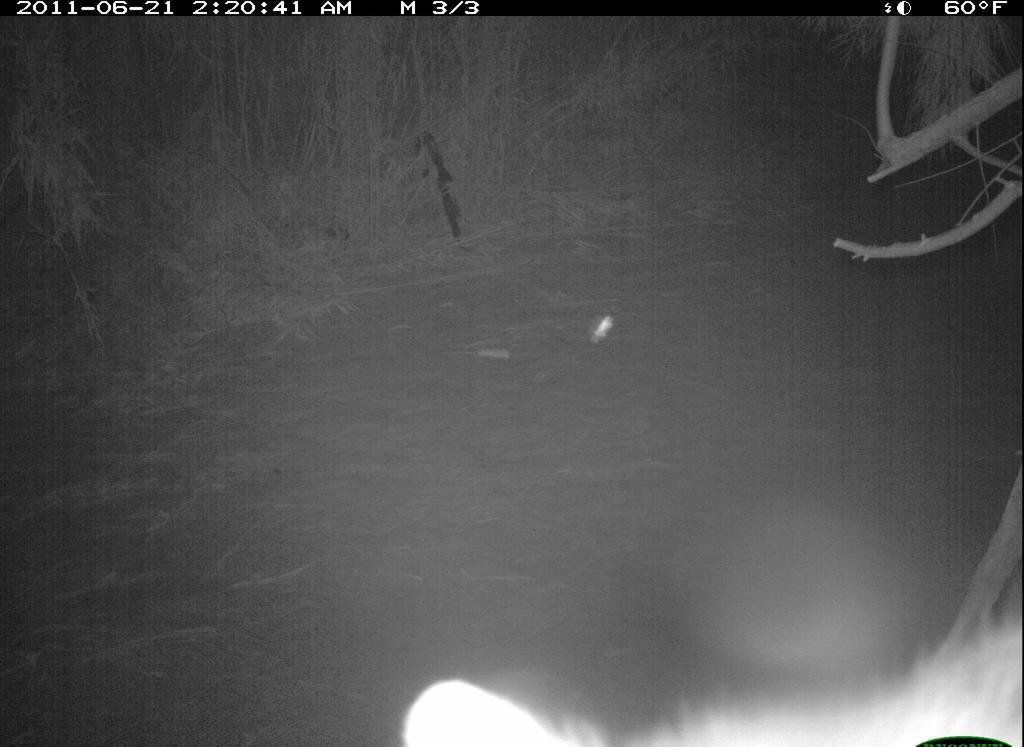raccoon: (397, 595, 1024, 747)
